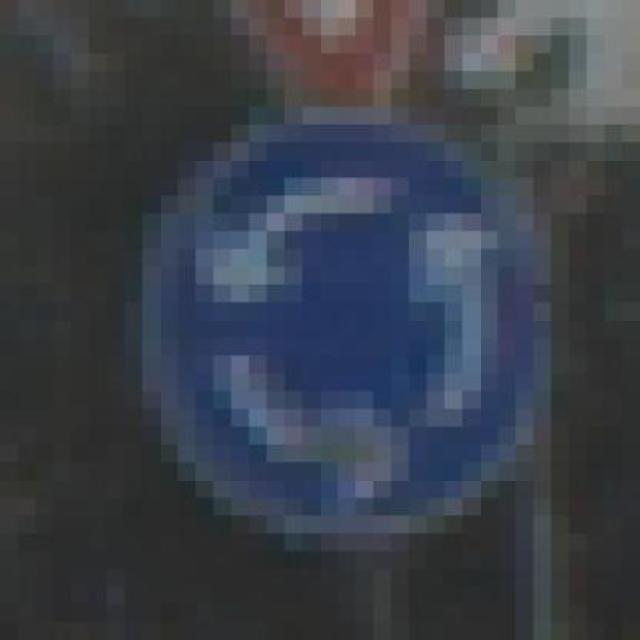Round-About: (107, 89, 587, 552)
